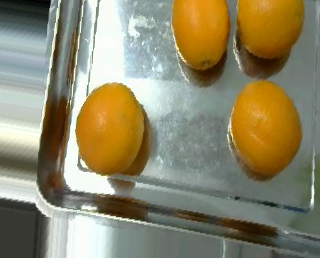Orange: (229, 78, 302, 175), (75, 81, 147, 175), (170, 1, 231, 71), (235, 1, 305, 58)
